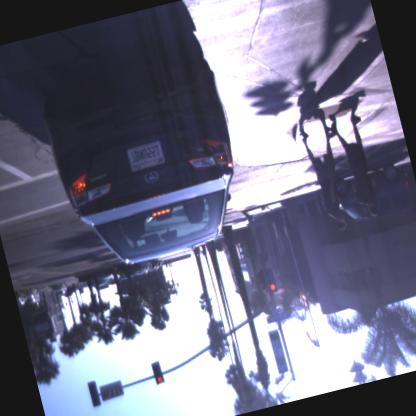trafficlight: (146, 354, 168, 390), (262, 260, 280, 298)
